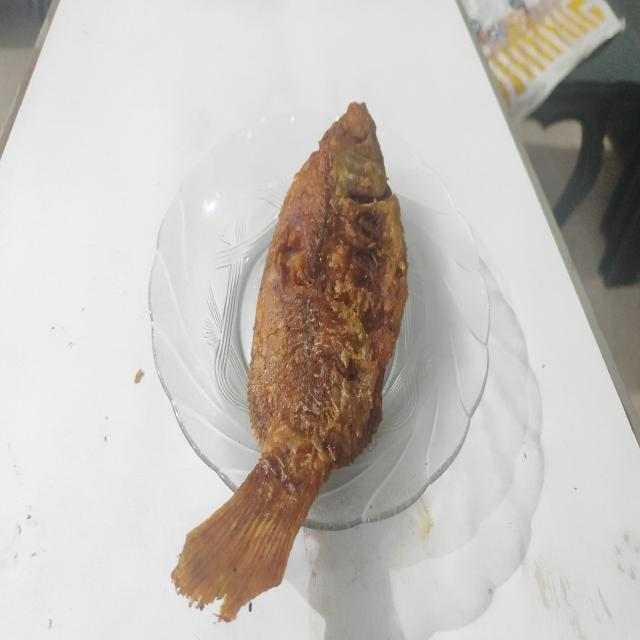ikan_mujair: (172, 104, 408, 620)
